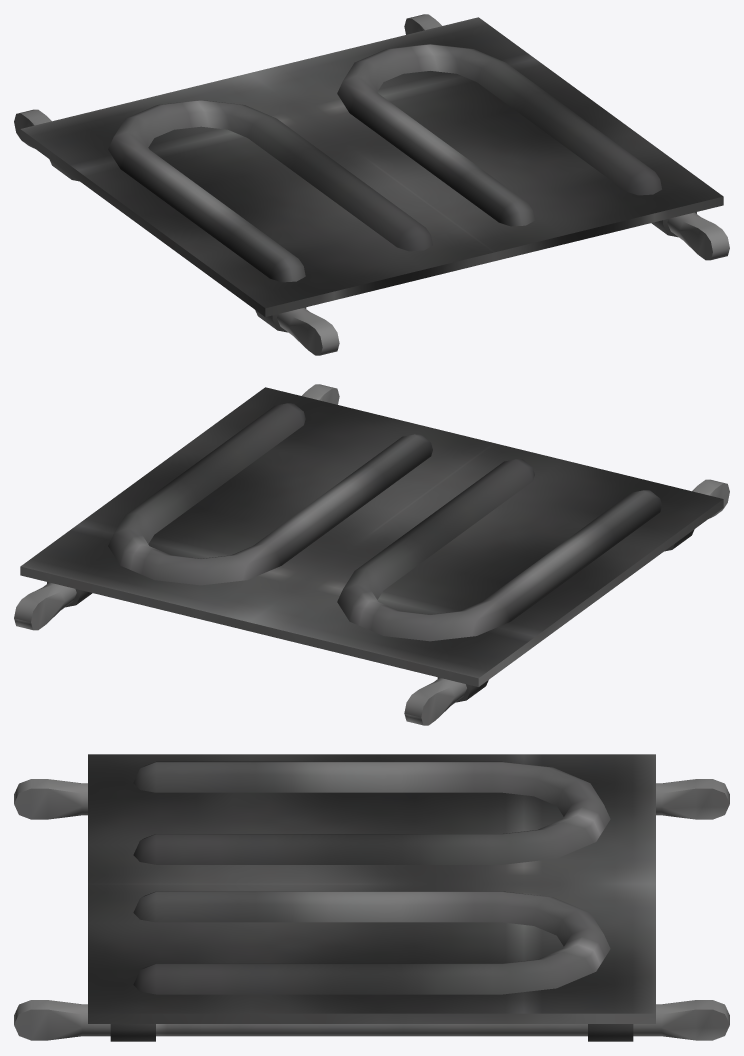
Rendered from 4mv_solar_srf_1_arm.obj.
3 renders of one model, top to bottom at view 1: azimuth 30°, elevation 25°; view 2: azimuth 150°, elevation 25°; view 3: azimuth 270°, elevation 25°, orthographic. The views are drawn at different scales.
Parts seen in each view (by area): view 1: arm1; view 2: arm1; view 3: arm1.
Boxes of the visible parts, x1,y1,x2,y2 form: arm1: (14,14,729,355); arm1: (14,384,729,725); arm1: (14,754,729,1041).
Size of the model in its own units: 0.675 by 0.0812 by 0.7875.
